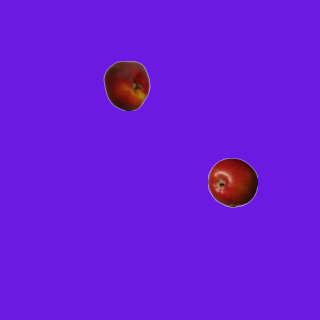Apple Braeburn: (207, 157, 257, 207)
Nectarine Flat: (101, 60, 151, 110)
